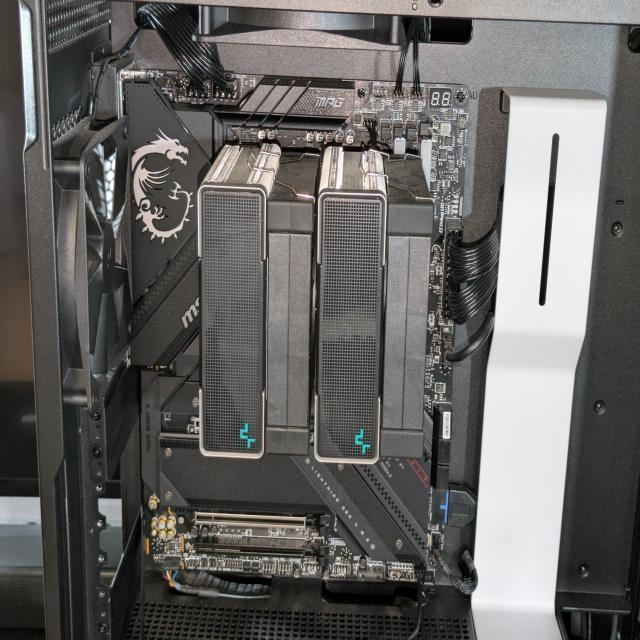CPU_Fan: (198, 141, 434, 465)
Mainboard: (124, 68, 470, 586)
RAM: (422, 136, 432, 193), (394, 138, 406, 156)
